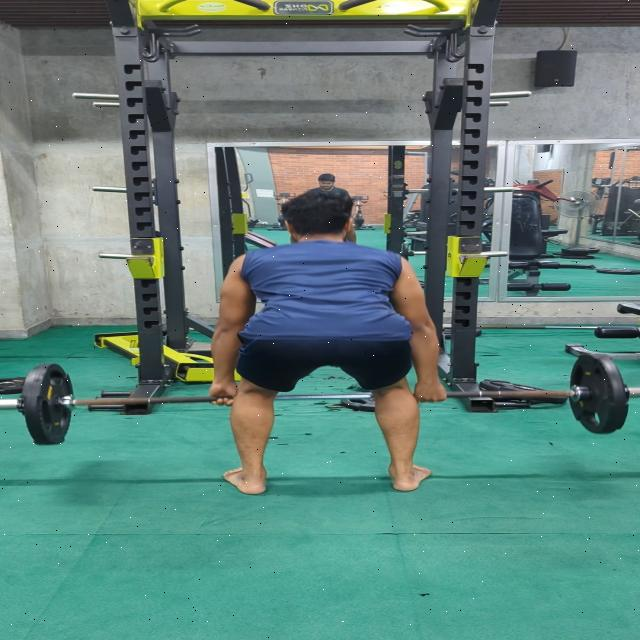Normal_Deadlifts: (205, 186, 457, 497)
